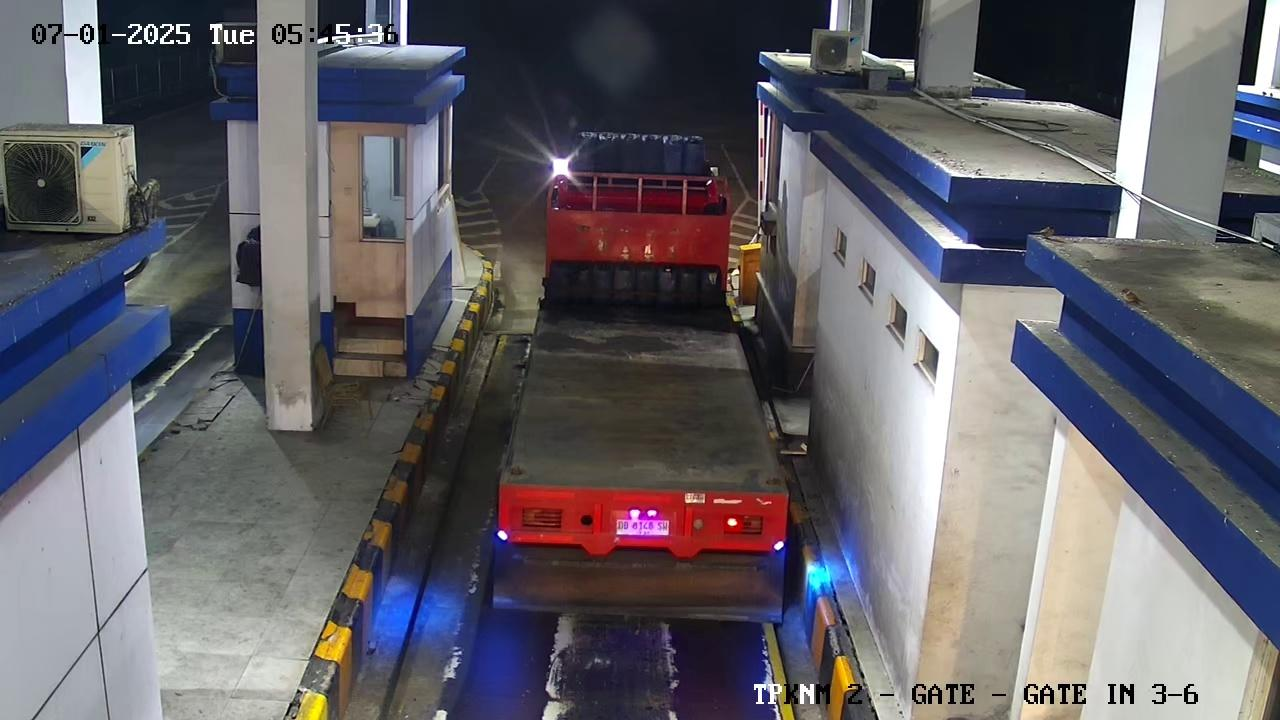plate_number: (597, 516, 683, 540)
